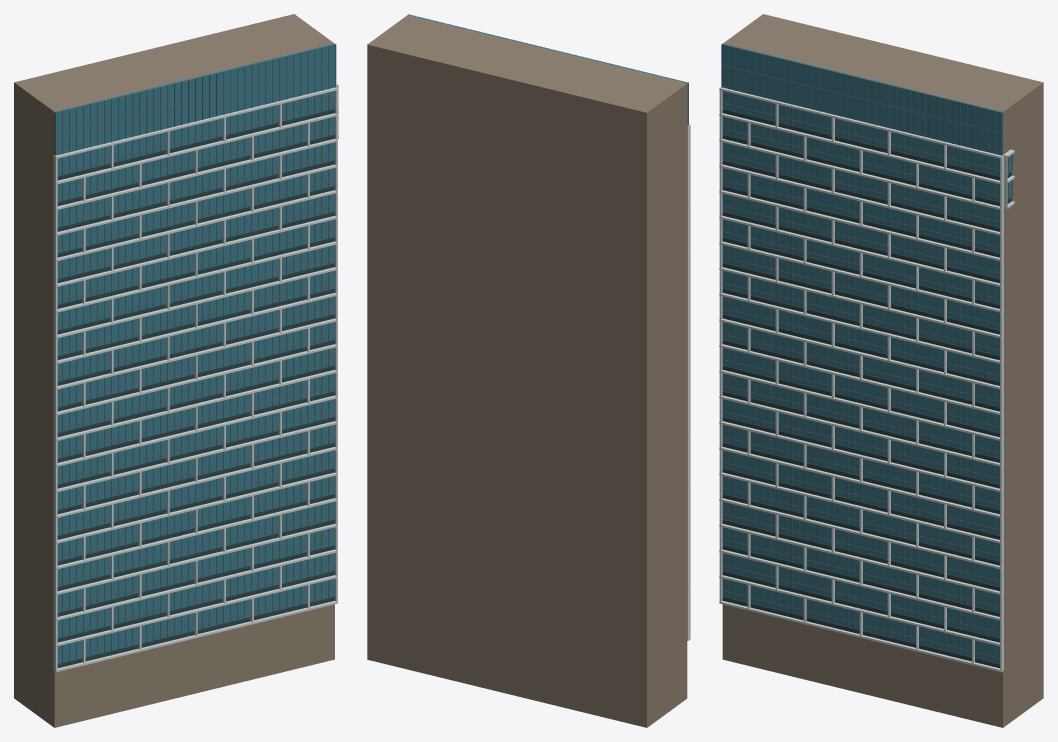
File: light.glb
The picture shows the model from 3 angles, left to right: view 1: azimuth 30°, elevation 25°; view 2: azimuth 150°, elevation 25°; view 3: azimuth 330°, elevation 25°; orthographic projection.
Visible parts, largest first — view 1: F_closed_glazing_00_00, HOLD_closed_support_mass, F_staggered_coarse_post_00_00, F_spandrel_00, F_fine_mullion_00_00; view 2: HOLD_closed_support_mass, F_staggered_coarse_post_00_00, F_closed_glazing_00_00; view 3: F_closed_glazing_00_00, HOLD_closed_support_mass, F_staggered_coarse_post_00_00, F_fine_mullion_00_00, F_spandrel_00.
Part boxes in pixels (x1=…): F_closed_glazing_00_00: x1=54, y1=43, x2=335, y2=663; HOLD_closed_support_mass: x1=14, y1=14, x2=334, y2=727; F_staggered_coarse_post_00_00: x1=53, y1=84, x2=338, y2=672; F_spandrel_00: x1=57, y1=109, x2=334, y2=668; F_fine_mullion_00_00: x1=55, y1=44, x2=336, y2=663; HOLD_closed_support_mass: x1=367, y1=15, x2=687, y2=727; F_staggered_coarse_post_00_00: x1=687, y1=124, x2=690, y2=640; F_closed_glazing_00_00: x1=408, y1=14, x2=688, y2=125; F_closed_glazing_00_00: x1=722, y1=43, x2=1011, y2=663; HOLD_closed_support_mass: x1=722, y1=14, x2=1043, y2=727; F_staggered_coarse_post_00_00: x1=719, y1=87, x2=1014, y2=672; F_fine_mullion_00_00: x1=721, y1=44, x2=1012, y2=662; F_spandrel_00: x1=722, y1=109, x2=1011, y2=668.
Bounding box in the file's own units: 40.73 × 84 × 10.61.
